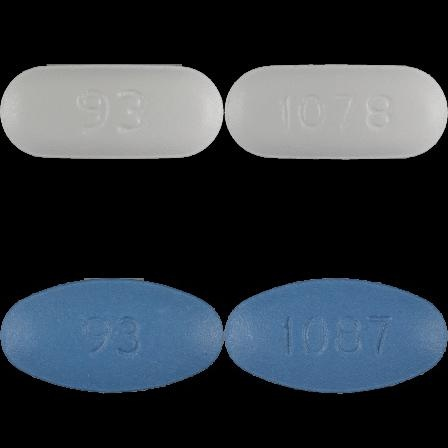0093-1078: (0, 0, 224, 224)
